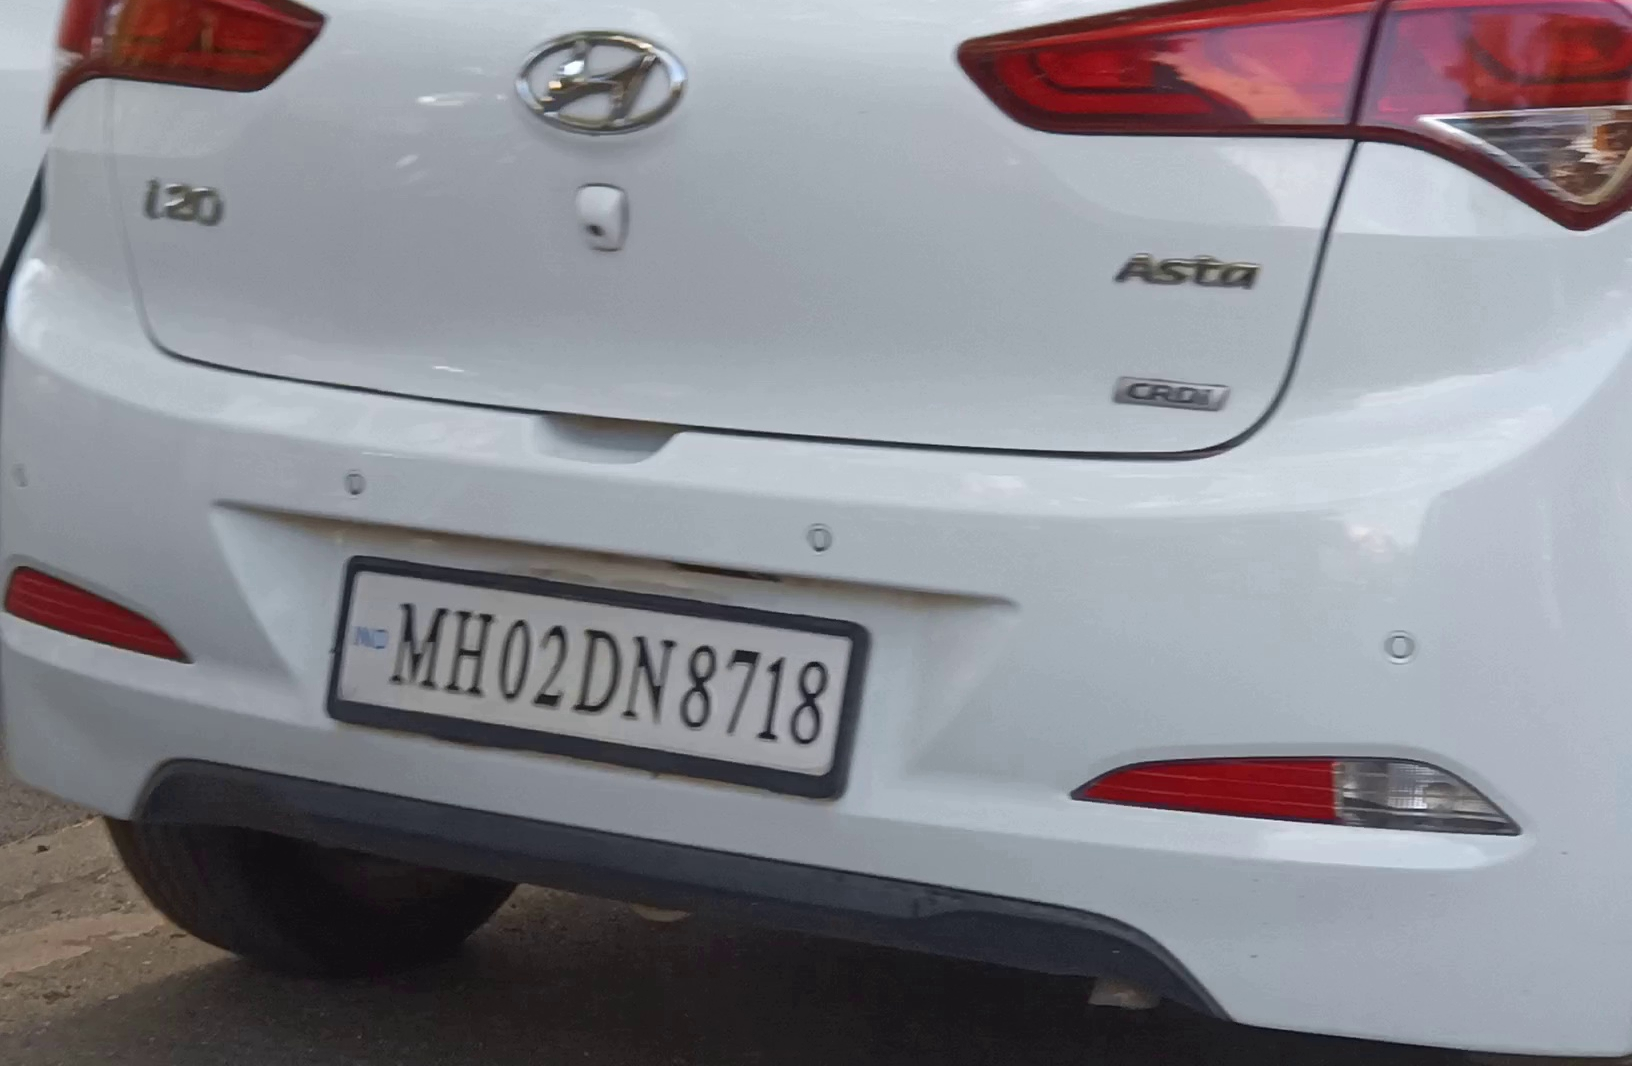MH02DN8718: (332, 563, 855, 778)
